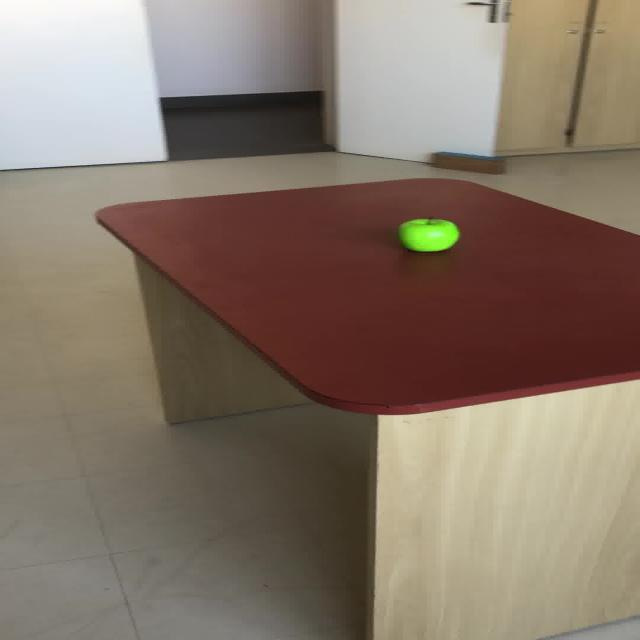apple: (396, 216, 459, 252)
